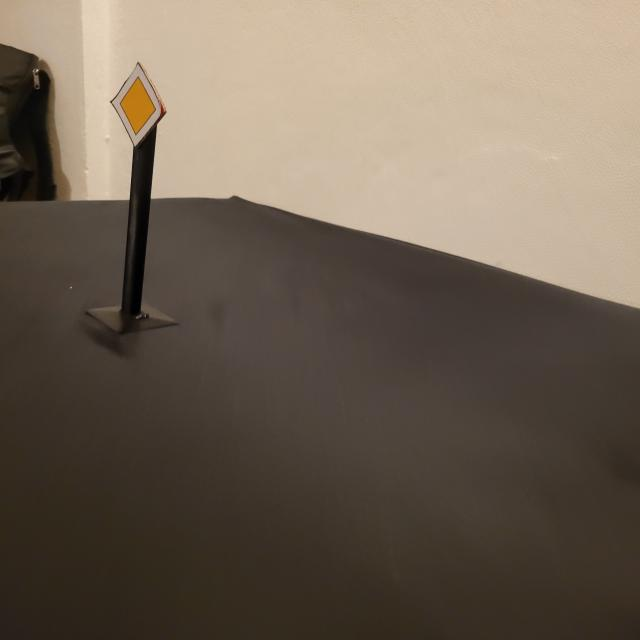priority: (108, 62, 166, 148)
